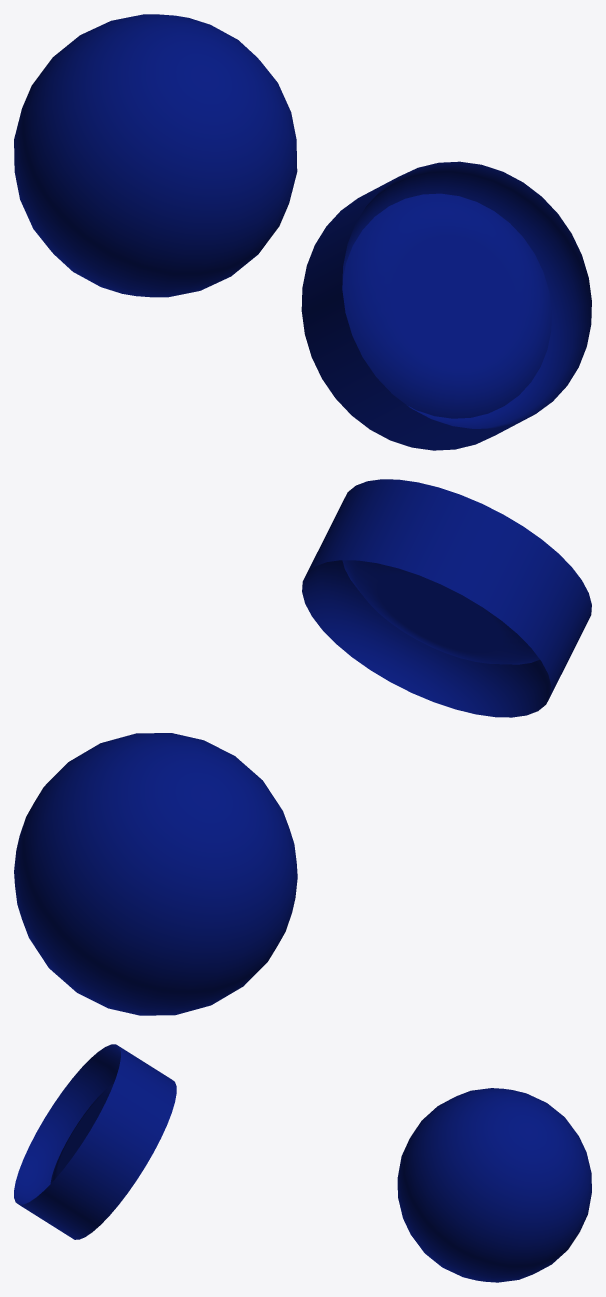
File: ShipCannonFrill.obj
3 views of the same model, one above another, from view 1: azimuth 30°, elevation 25°; view 2: azimuth 150°, elevation 25°; view 3: azimuth 270°, elevation 25° (orthographic). The views are drawn at different scales.
Parts seen in each view (by area): view 1: Part1, Sphere1; view 2: Sphere1, Part1; view 3: Sphere1, Part1.
Boxes of the visible parts, x1,y1,x2,y2 form: Part1: (301,161,591,450); Sphere1: (14,14,297,297); Sphere1: (14,733,297,1015); Part1: (302,479,591,717); Sphere1: (397,1088,591,1282); Part1: (14,1044,176,1239).
Size of the model in its own units: 0.802 by 0.9898 by 2.37.
